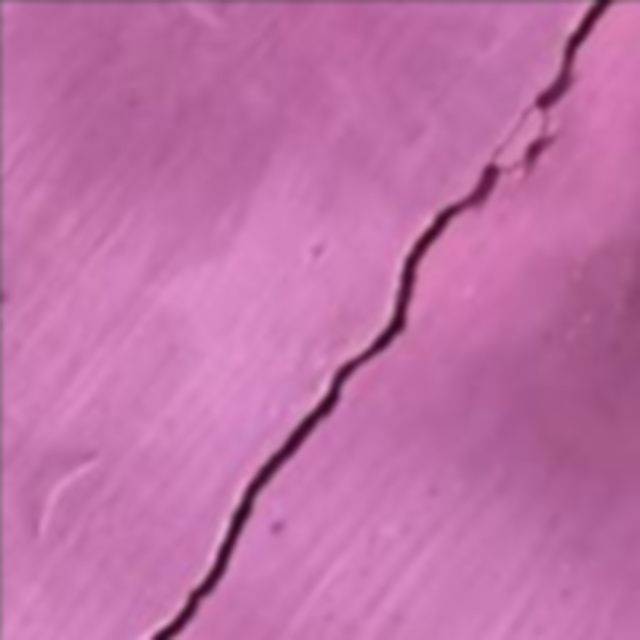SurfaceCrack: (110, 0, 640, 640)
